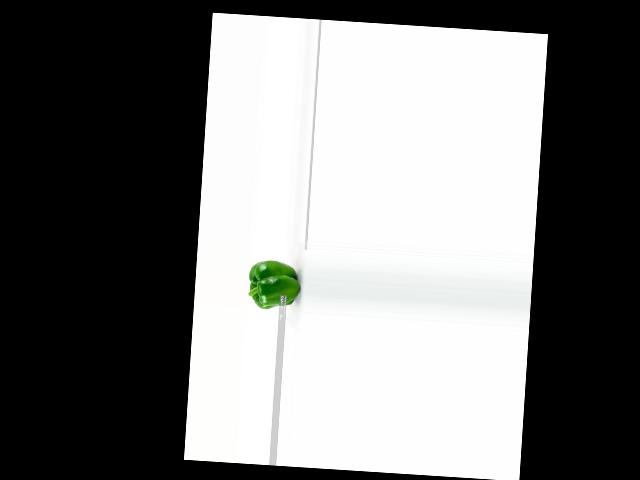bell_pepper: (244, 256, 303, 310)
